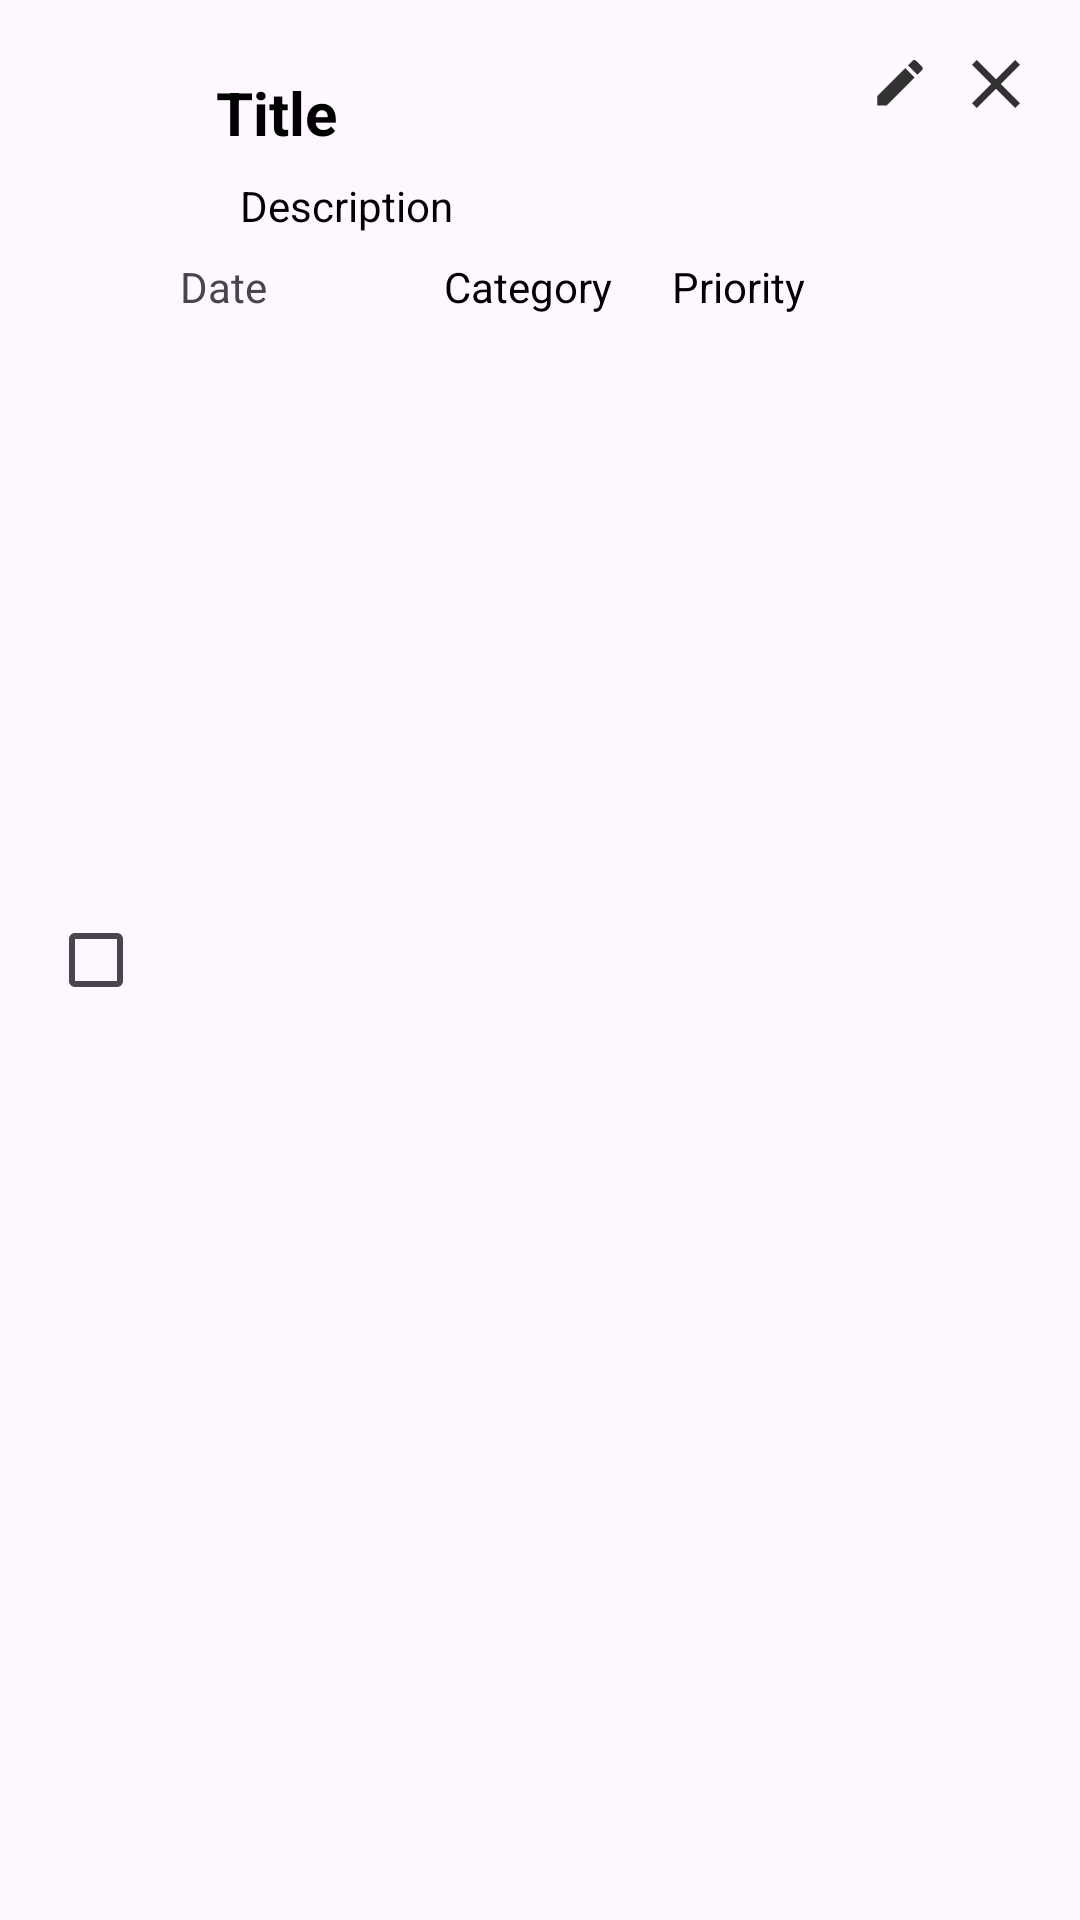

Icons on this 1080px x 1920px Android screen, each with the point to tap as (x,y):
Delete ToDo: (996,84)
Edit ToDo: (900,83)
